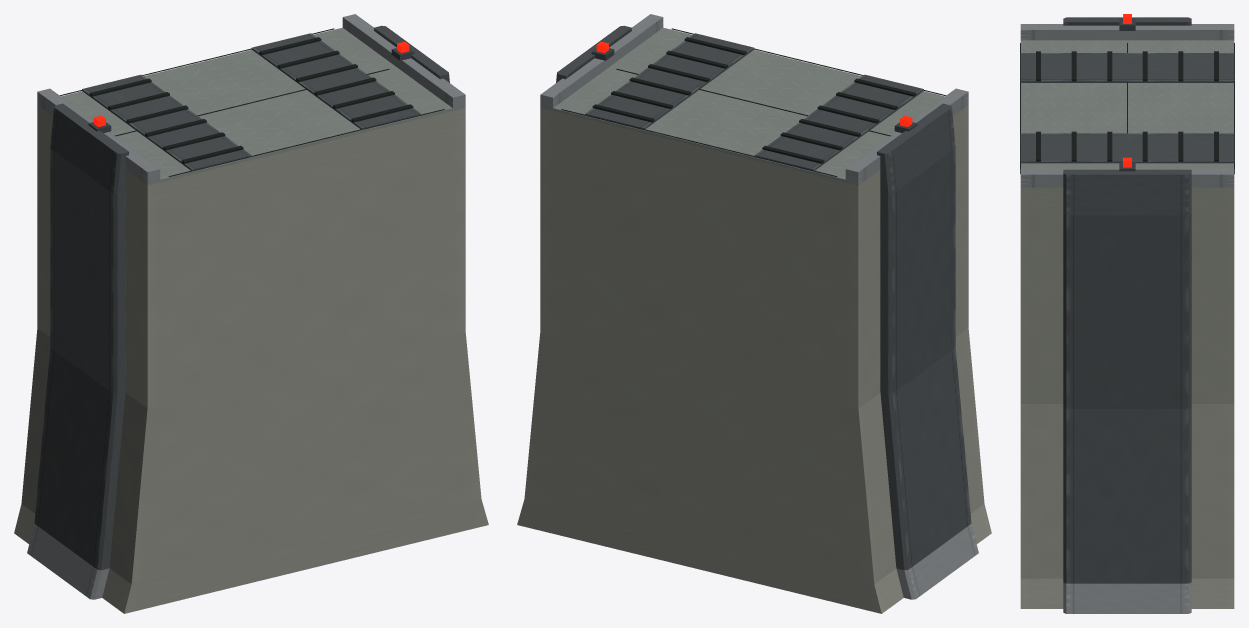
Rendered from half-bay.glb.
3 views of the same model, side by side, from view 1: azimuth 30°, elevation 25°; view 2: azimuth 150°, elevation 25°; view 3: azimuth 270°, elevation 25° (orthographic). The views are drawn at different scales.
Visible parts, largest first — view 1: half-bay-lod0-base0, half-bay-lod0-floor0, half-bay-lod0-roof0; view 2: half-bay-lod0-base0, half-bay-lod0-floor0, half-bay-lod0-roof0; view 3: half-bay-lod0-base0, half-bay-lod0-roof0, half-bay-lod0-floor0.
Part boxes in pixels (x1,y1,x2,y2): half-bay-lod0-base0: (14, 328, 488, 613); half-bay-lod0-floor0: (37, 128, 465, 408); half-bay-lod0-roof0: (37, 14, 465, 208); half-bay-lod0-base0: (517, 328, 991, 613); half-bay-lod0-floor0: (540, 128, 968, 408); half-bay-lod0-roof0: (540, 14, 968, 208); half-bay-lod0-base0: (1020, 404, 1234, 613); half-bay-lod0-roof0: (1020, 14, 1234, 215); half-bay-lod0-floor0: (1020, 210, 1234, 408).
Size of what is drawn, in the model's own units: 36.4 by 40.38 by 18.08.
Materials: 7 (7 with a texture image).
